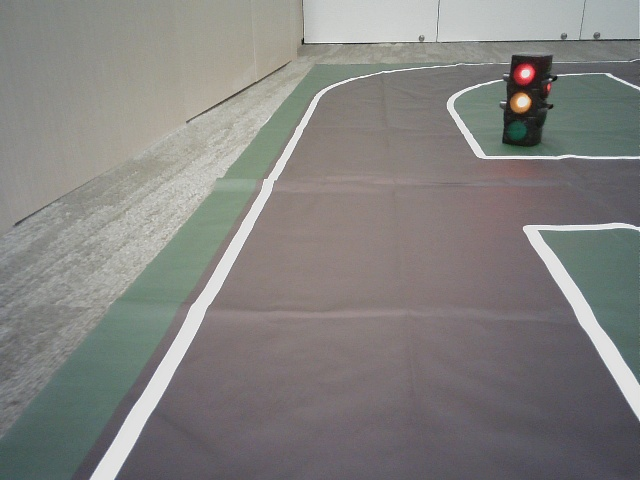red: (505, 59, 534, 142)
